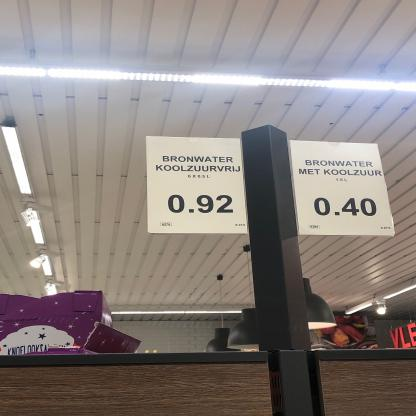prtg: (289, 141, 397, 237), (146, 136, 249, 235)
